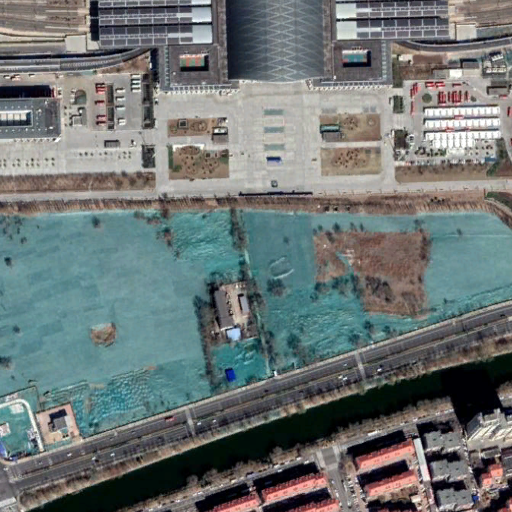cw: (6, 211, 512, 456)
